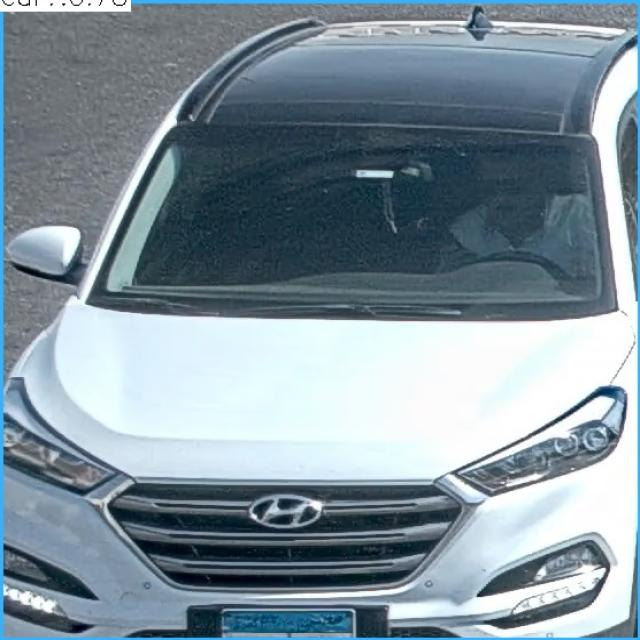windshield: (104, 126, 614, 298)
